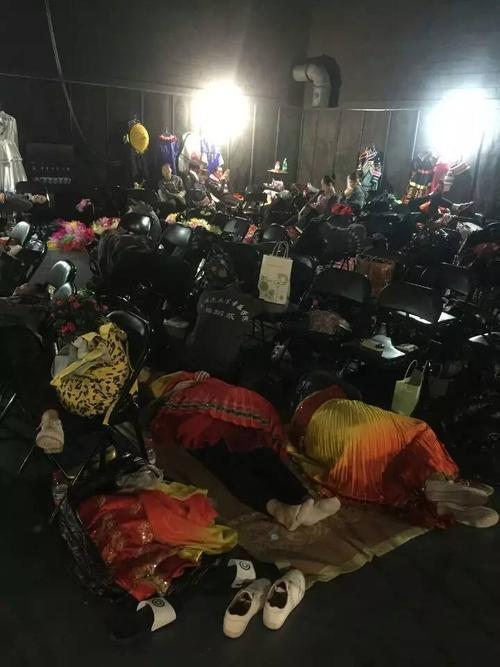Fall-Detected: (132, 344, 318, 533)
